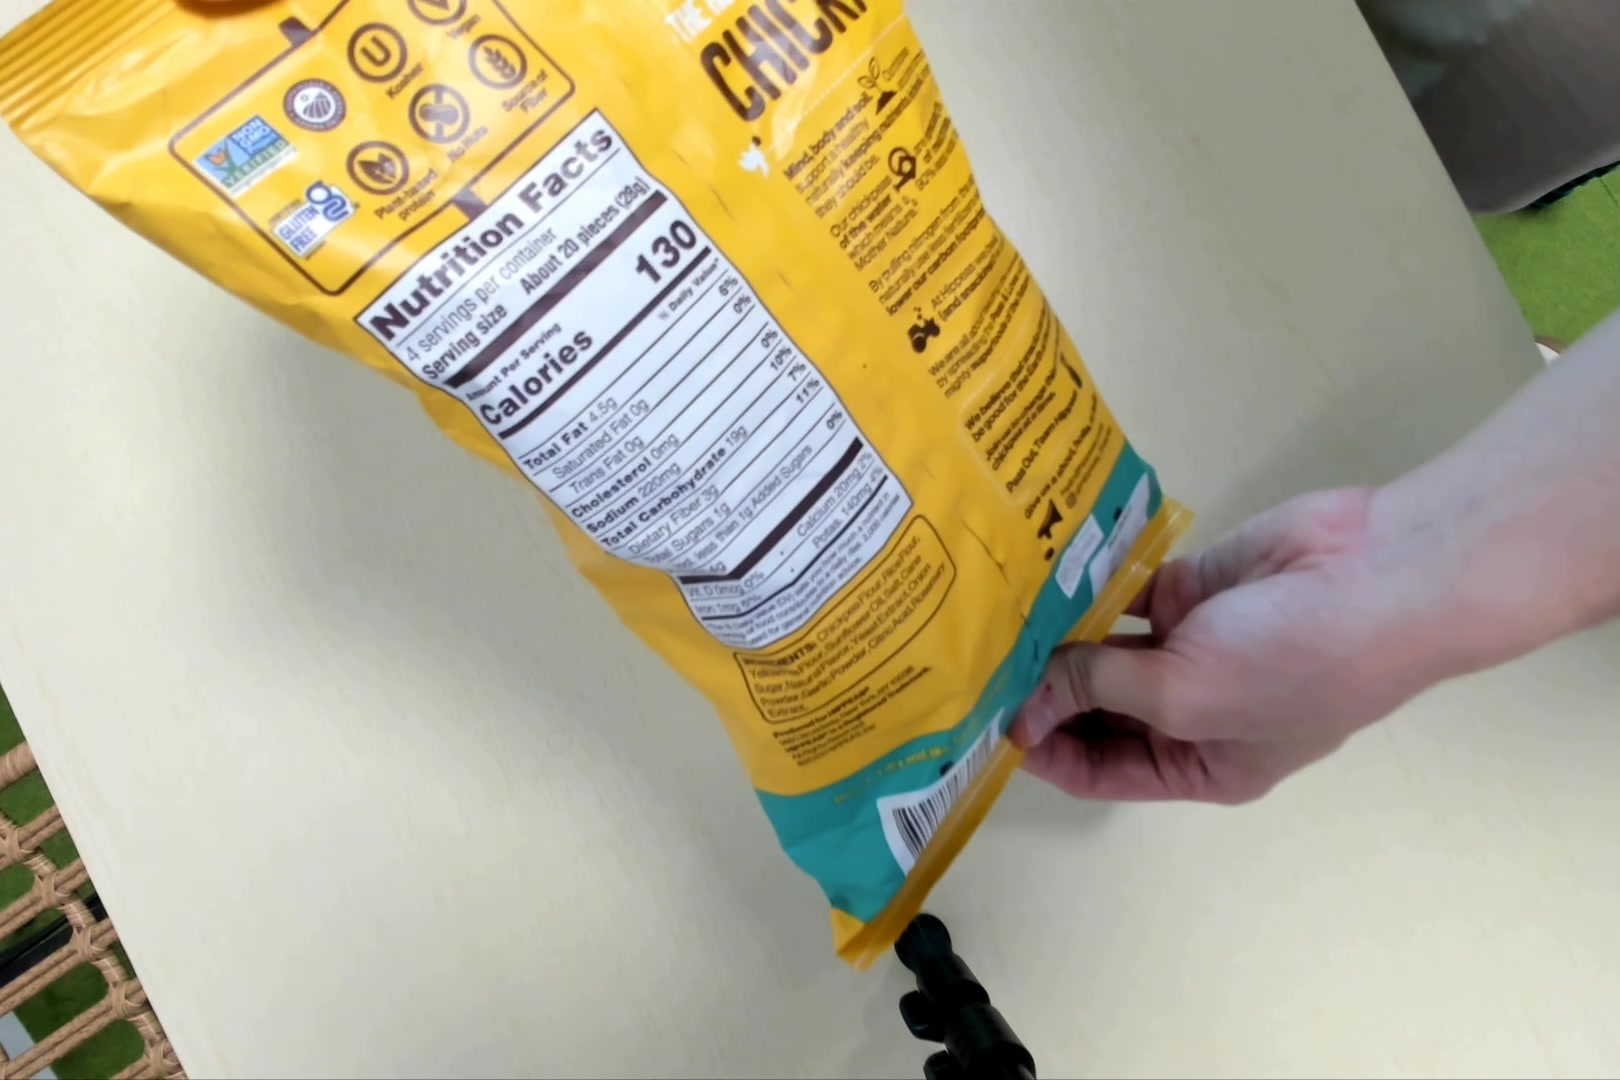PotatoChipsKeropok_100-199g_NonHalal_NonHealthy: (45, 2, 1188, 955)
